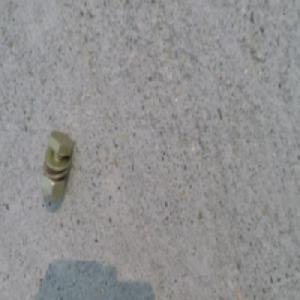BoltNutSet: (46, 126, 79, 198)
